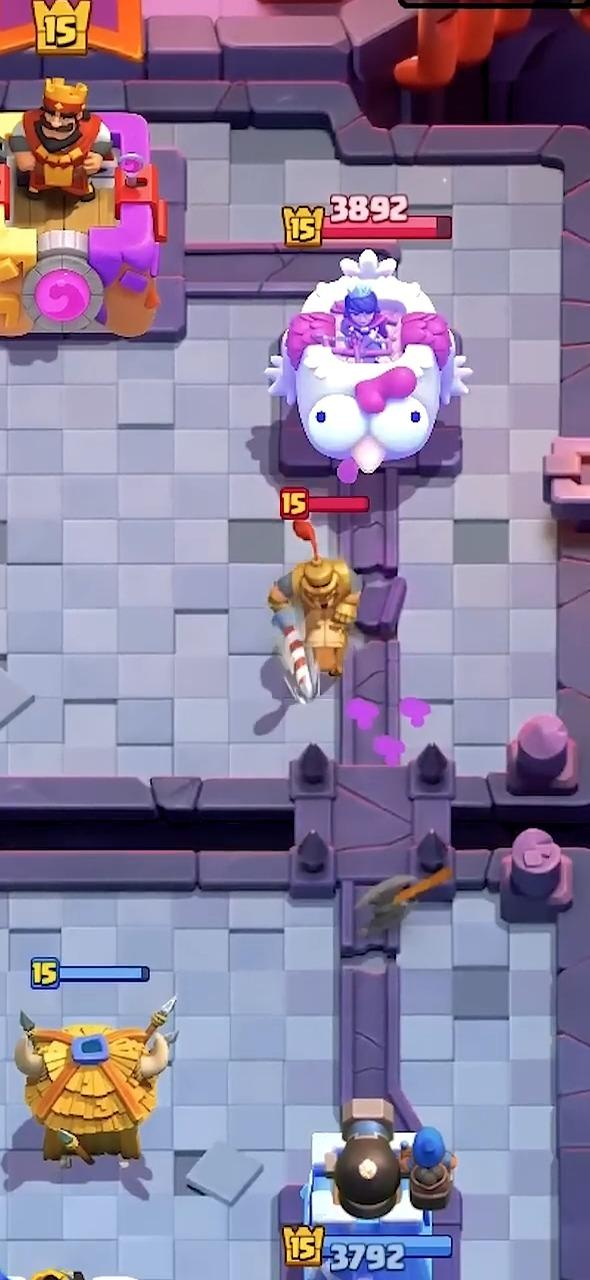goblin hut: (14, 998, 176, 1167)
prince: (267, 519, 359, 702)
